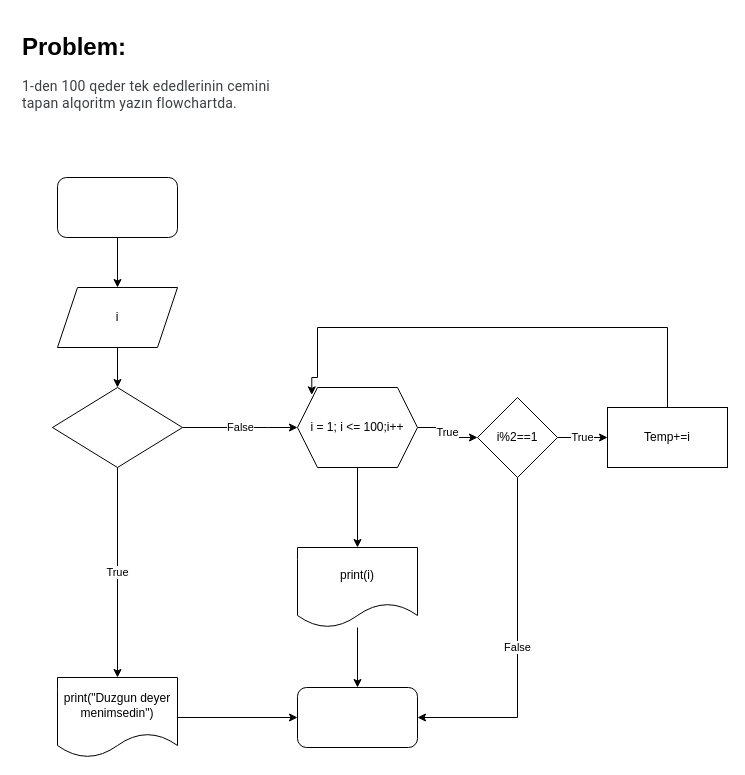
This 745x775 diagram has some shape labels left out. Each missing label, with the box of its shape:
End: (296, 686, 418, 748)
i < 0 && i >100: (52, 386, 182, 468)
Start: (56, 176, 178, 238)
